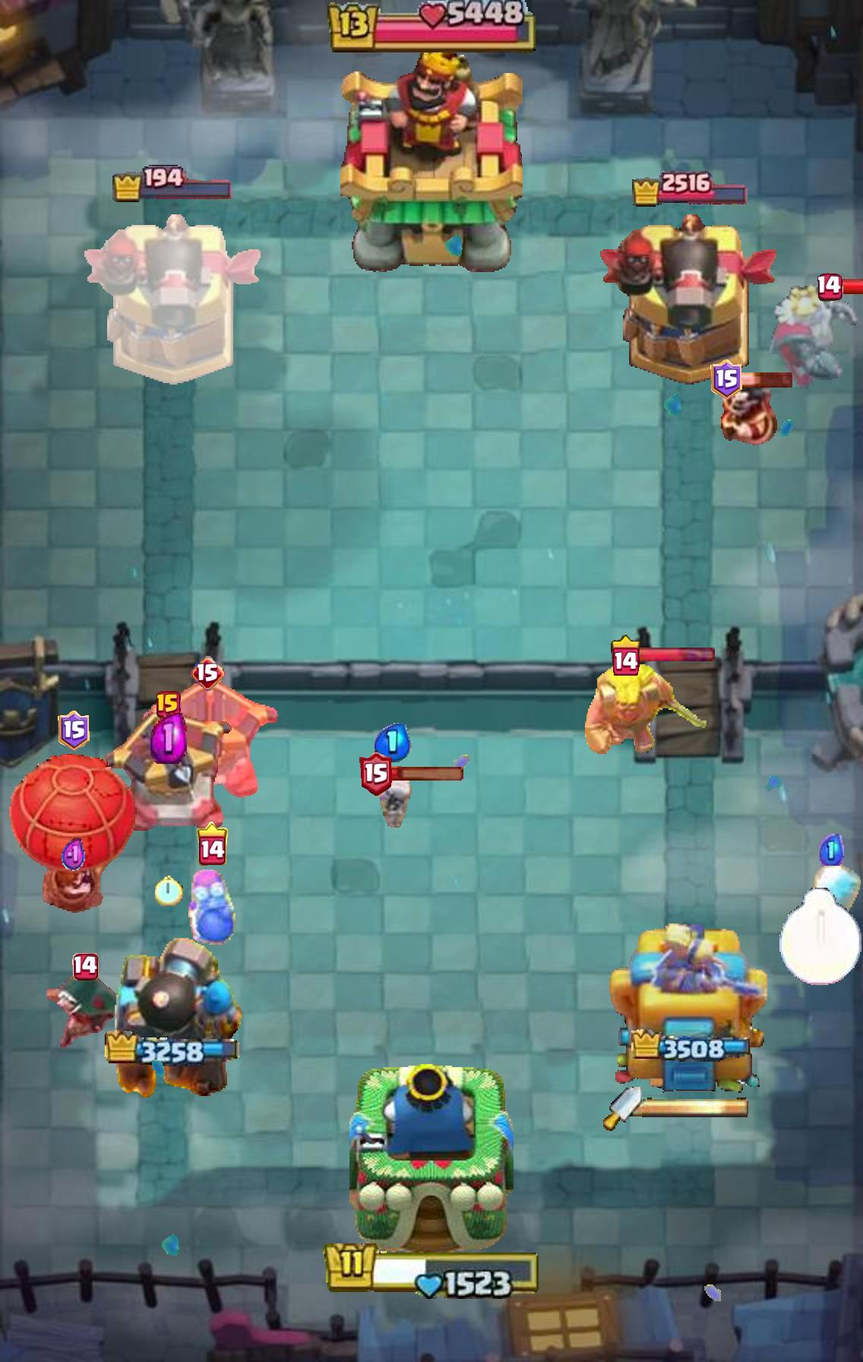bar: (637, 647, 716, 664), (388, 766, 467, 783), (738, 370, 795, 388), (839, 278, 863, 296)
bar-level: (359, 752, 392, 797), (197, 822, 228, 866), (710, 360, 742, 400), (58, 711, 90, 751), (611, 635, 641, 676), (191, 656, 226, 691), (817, 273, 843, 302), (72, 953, 98, 980), (156, 690, 181, 718)
